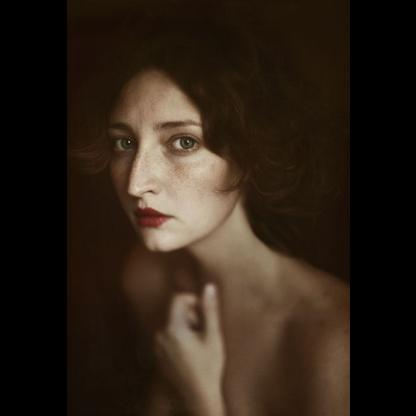Female: (105, 63, 239, 255)
